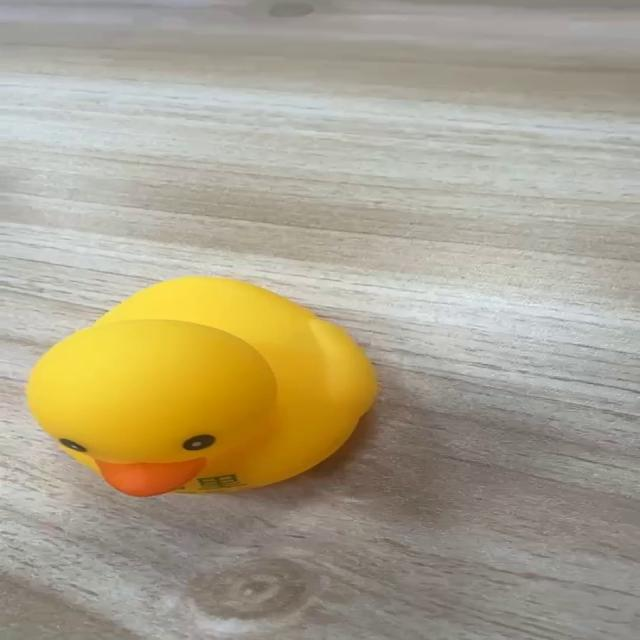yellow_duck: (24, 274, 378, 497)
